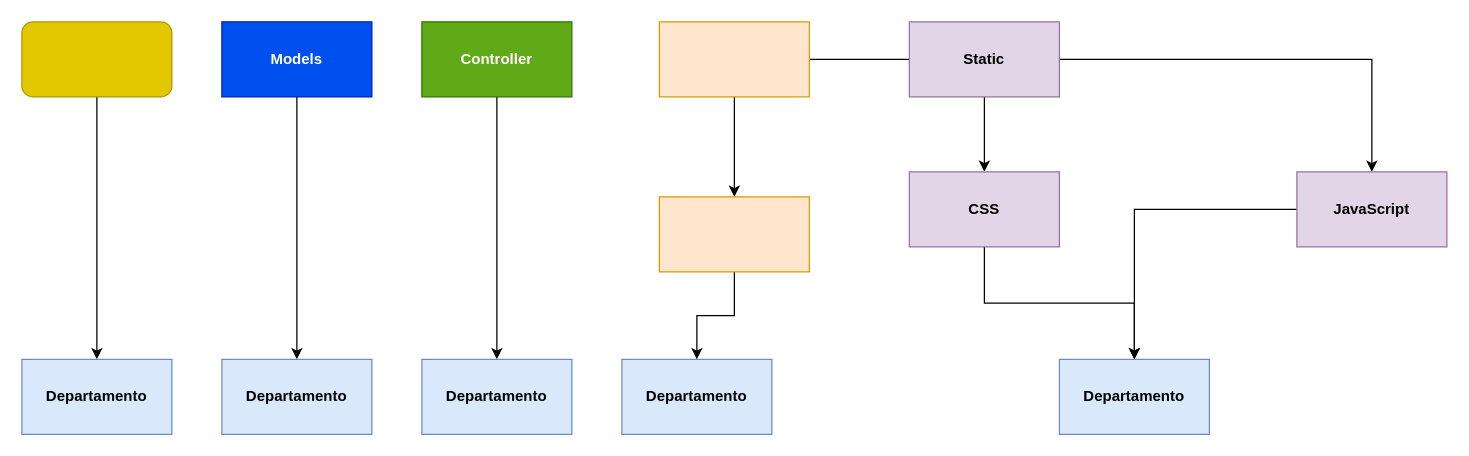
Some shapes in this 1469 by 456 pixel diagram are drawn without their labels. Here are the shapes that lost their labels. From the top down, the centre of each, then its label:
the point at 96,59: Routes
the point at 733,59: Templates
the point at 733,234: Views
